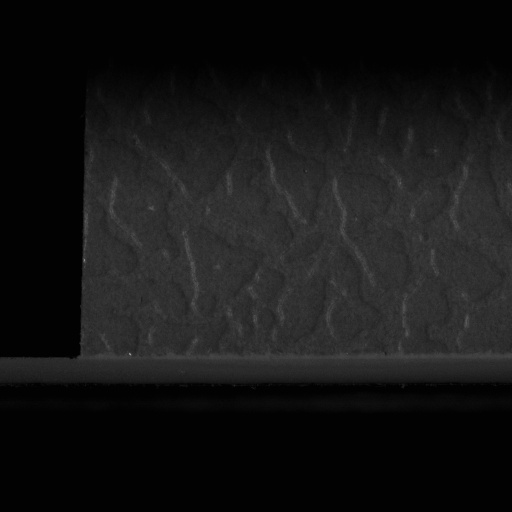changdai: (3, 356, 82, 389)
